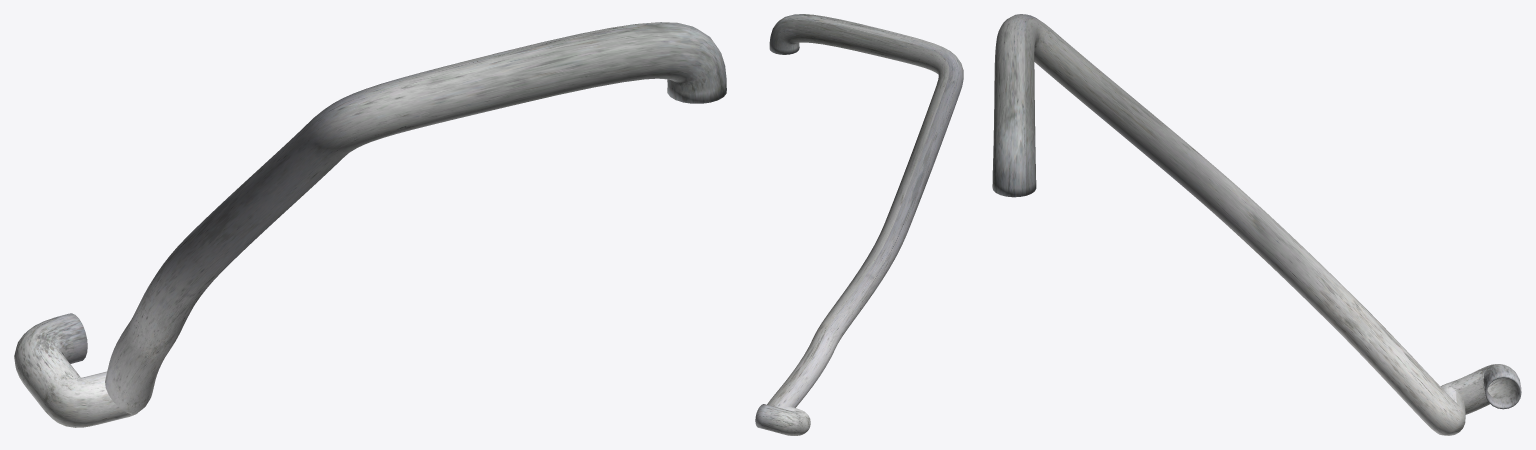
File: intercooler_manifold_twinCarb_tube.obj
3 views of the same model, side by side, from view 1: azimuth 30°, elevation 25°; view 2: azimuth 150°, elevation 25°; view 3: azimuth 270°, elevation 25° (orthographic). The views are drawn at different scales.
Parts seen in each view (by area): view 1: Intercooler-Manifold-TwinCarb-Tube___BezierCurve.007; view 2: Intercooler-Manifold-TwinCarb-Tube___BezierCurve.007; view 3: Intercooler-Manifold-TwinCarb-Tube___BezierCurve.007.
Part boxes in pixels (left/top/right/bottom): Intercooler-Manifold-TwinCarb-Tube___BezierCurve.007: left=14, top=22, right=726, bottom=427; Intercooler-Manifold-TwinCarb-Tube___BezierCurve.007: left=755, top=14, right=963, bottom=435; Intercooler-Manifold-TwinCarb-Tube___BezierCurve.007: left=992, top=14, right=1521, bottom=435.
Size of the model in its own units: 0.4249 by 0.5578 by 0.6566.
